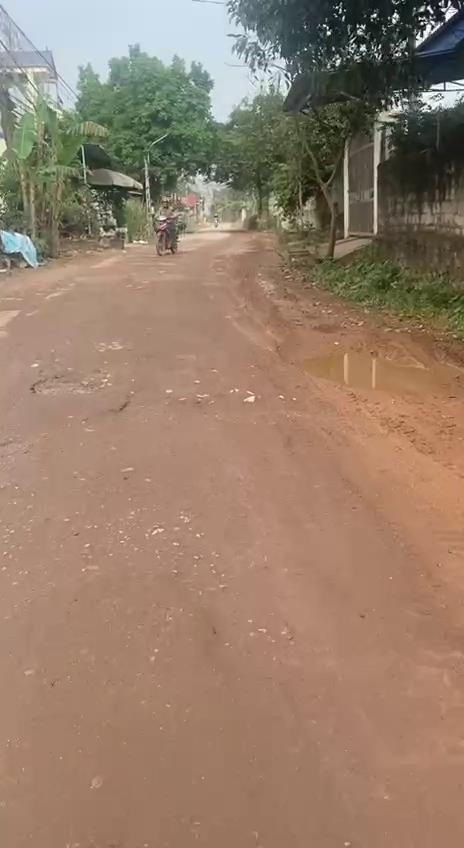pothole: (287, 337, 454, 402), (30, 369, 102, 398)
